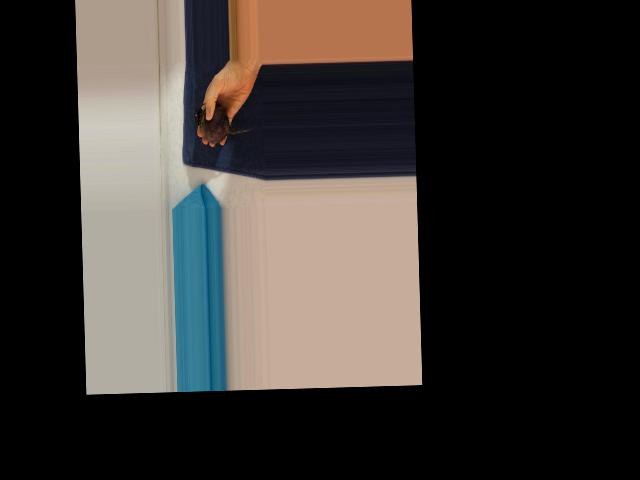beet: (194, 101, 253, 144)
